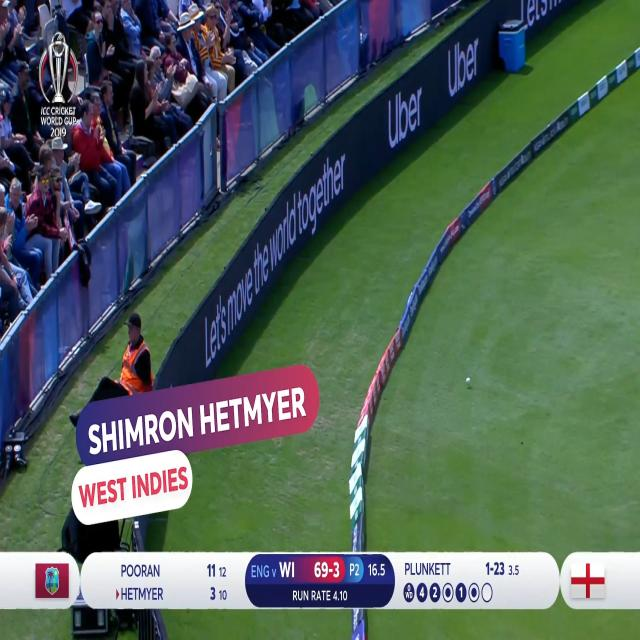ball: (458, 366, 477, 391)
